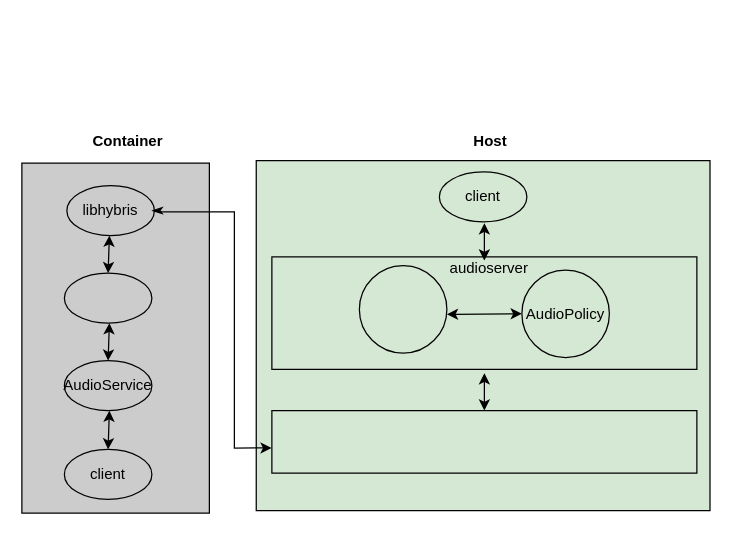
The diagram is 733 pixels wide and 535 high, and some of its shapes have lost their labels. The centre of each missing label's shape, as x and y in pixels:
adapter: pixel 107 297
Audio HAL: pixel 484 441
AudioFlinger: pixel 402 308
